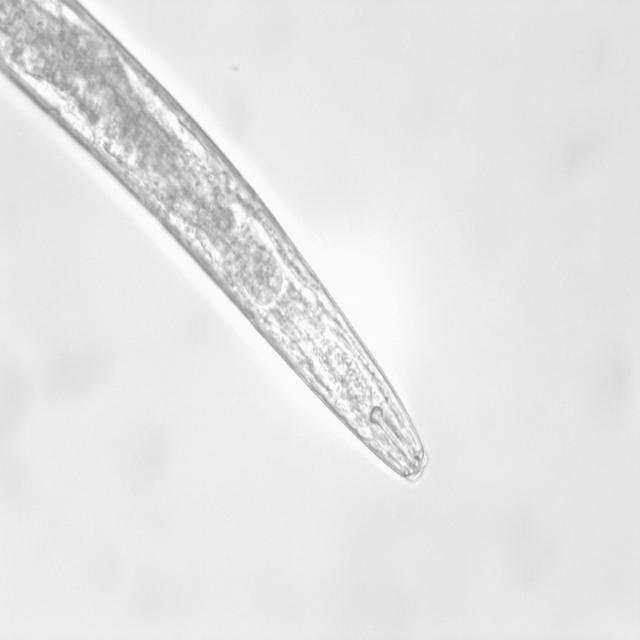Pratylenchus: (0, 0, 434, 495)
